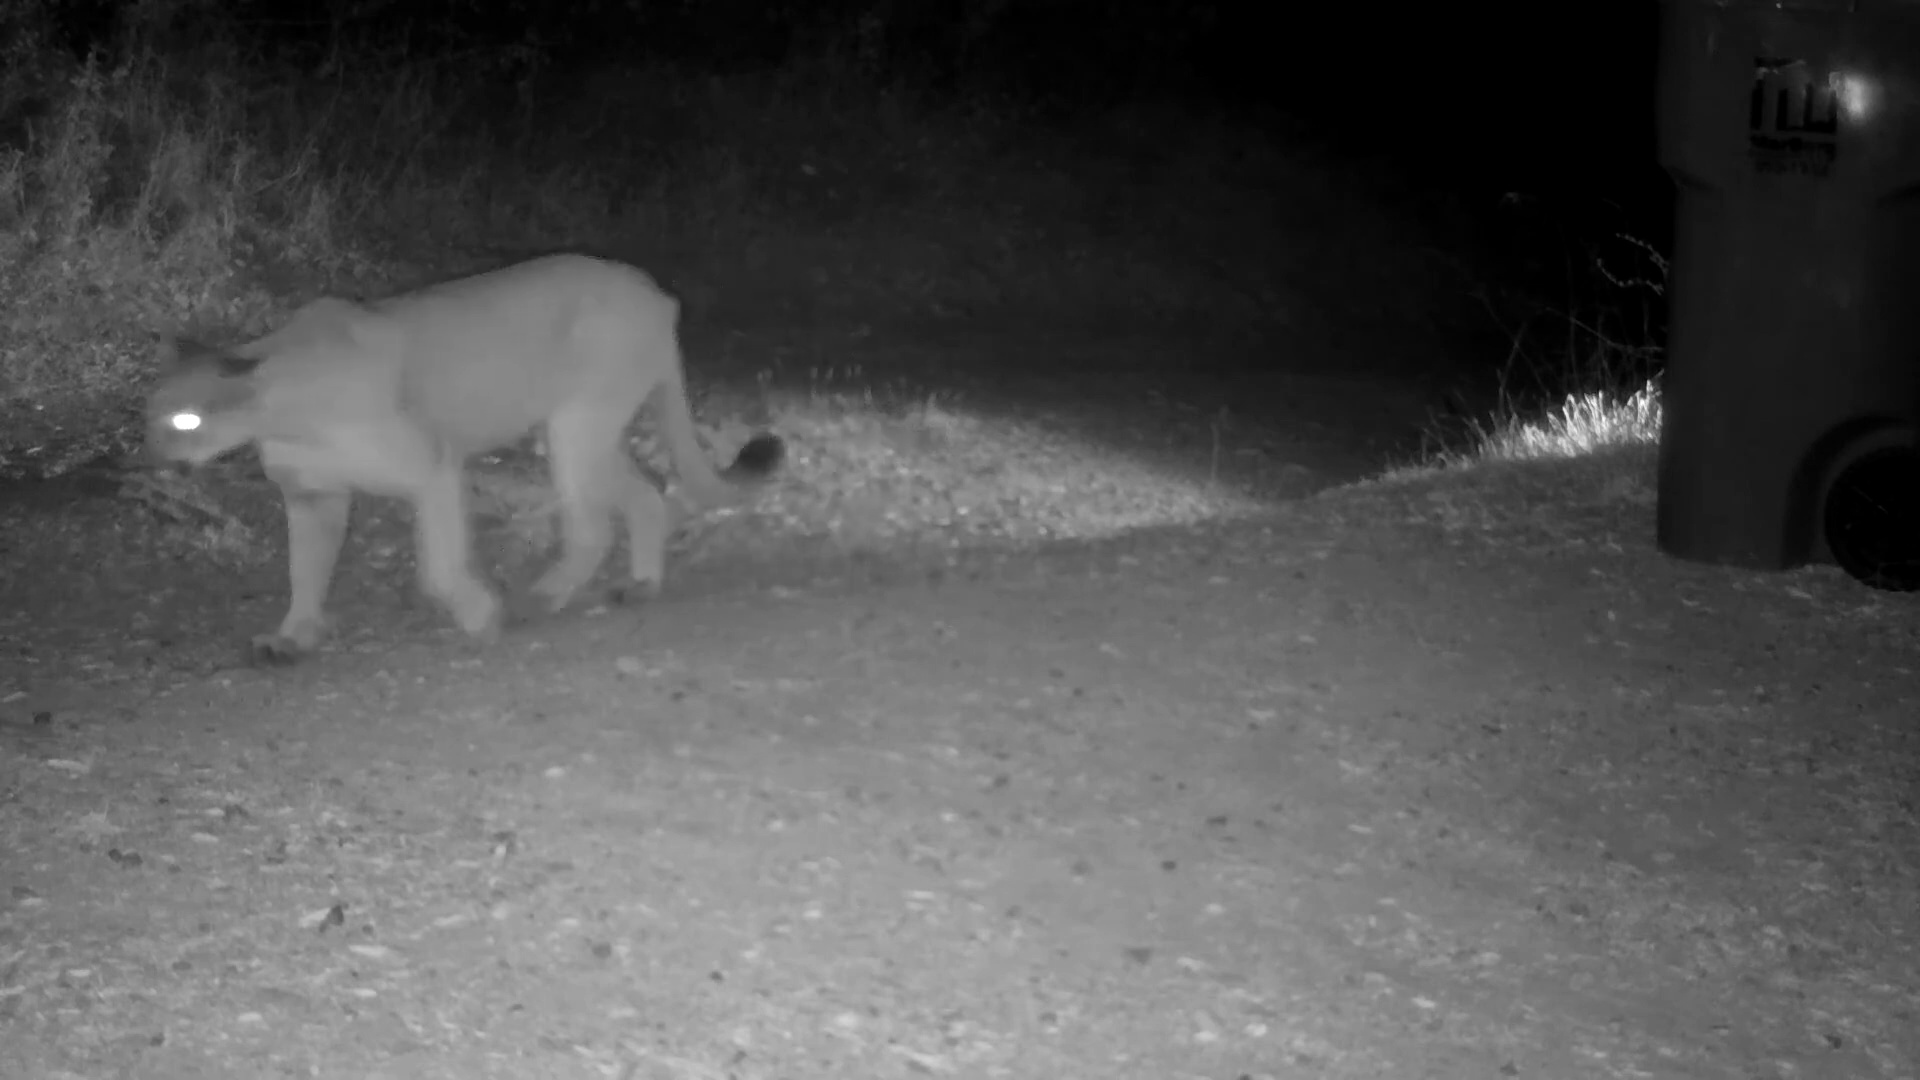Lion: (140, 247, 791, 667)
